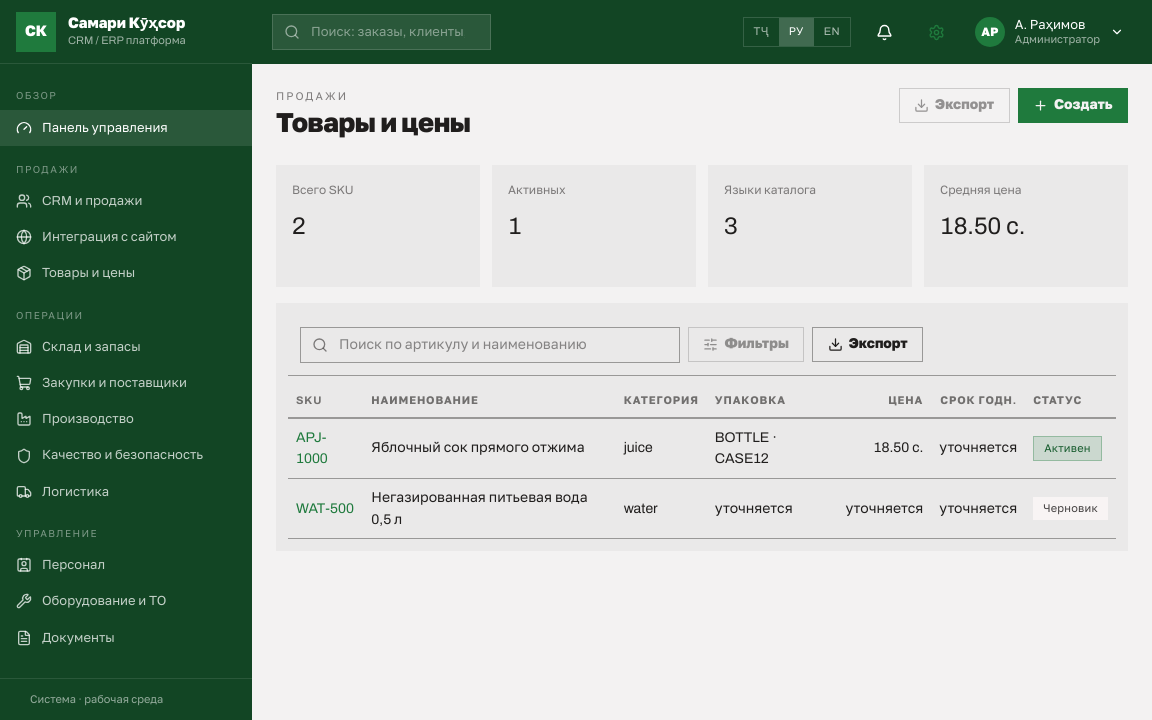
Test: distinguishes "no products" from "no matches"
The width and height of the screenshot is (1152, 720).
Expected: the text "APJ-1000" is shown, [296,430,328,466]
Type "нетнет" into the search field labelled "Поиск по артикулу и наименованию" at (490, 345), box [300,327,680,363]
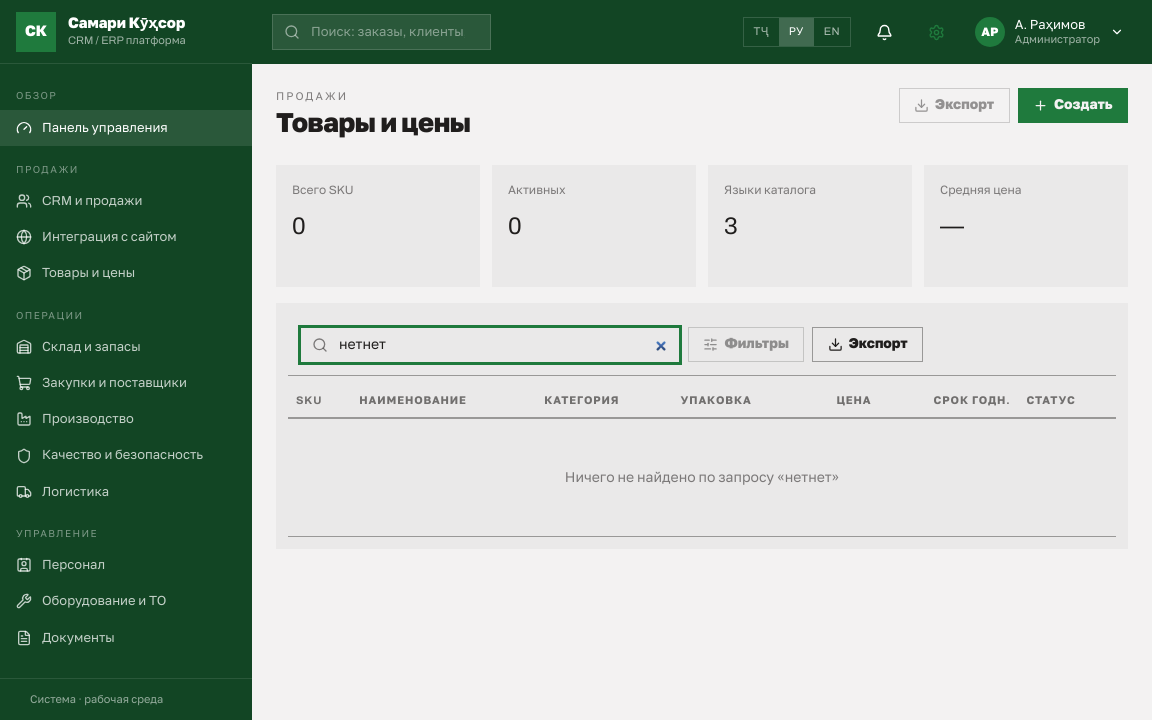
Now the text "Ничего не найдено по запросу «нетнет»" is shown, box [565,470,839,485]
